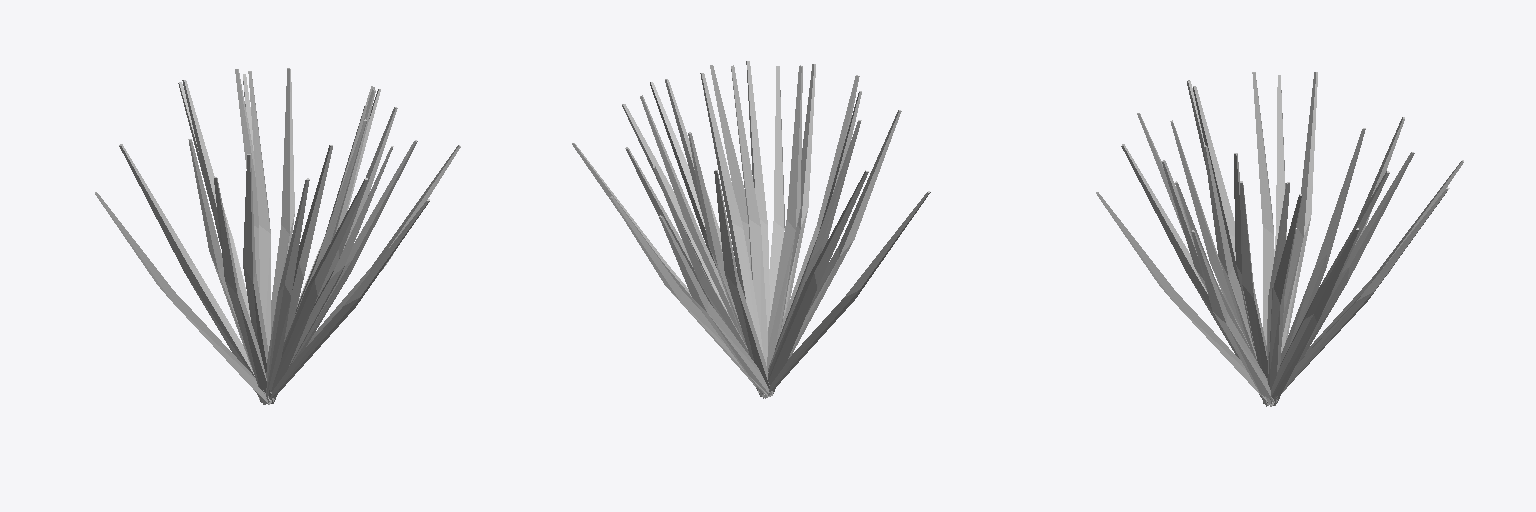
Rendered from DryBush_LOD0.obj.
The picture shows the model from 3 angles: view 1: azimuth 30°, elevation 25°; view 2: azimuth 150°, elevation 25°; view 3: azimuth 270°, elevation 25°; orthographic projection.
Visible parts, largest first — view 1: DryBush_LOD0; view 2: DryBush_LOD0; view 3: DryBush_LOD0.
Part boxes in pixels (x1,y1,x2,y2): DryBush_LOD0: (95,68,460,404); DryBush_LOD0: (572,61,930,398); DryBush_LOD0: (1096,72,1463,406).
Size of the model in its own units: 93.34 by 80.2 by 92.26.